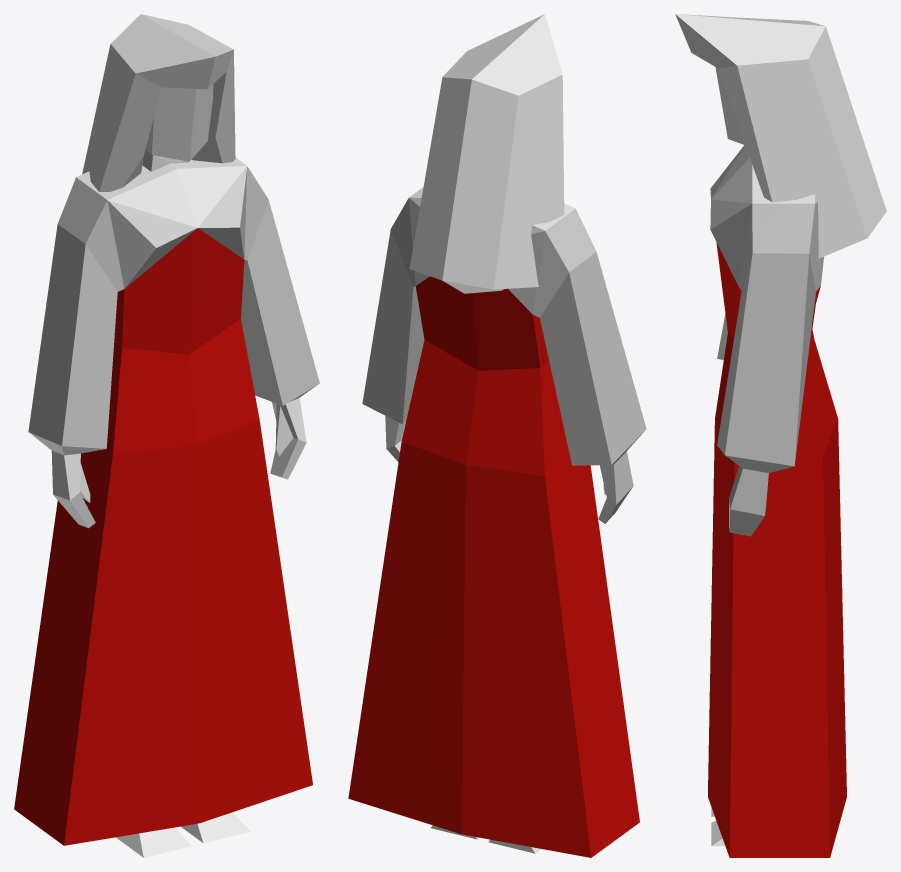
The model's file is woman04.fbx.
3 renders of one model, left to right at view 1: azimuth 30°, elevation 25°; view 2: azimuth 150°, elevation 25°; view 3: azimuth 270°, elevation 25°, orthographic. The views are drawn at different scales.
Visible parts, largest first — view 1: woman04; view 2: woman04; view 3: woman04.
Part boxes in pixels (x1,y1,x2,y2): woman04: [14, 14, 319, 857]; woman04: [348, 14, 646, 857]; woman04: [675, 14, 886, 857].
Bounding box in the file's own units: 0.569 × 1.69 × 0.4022.
